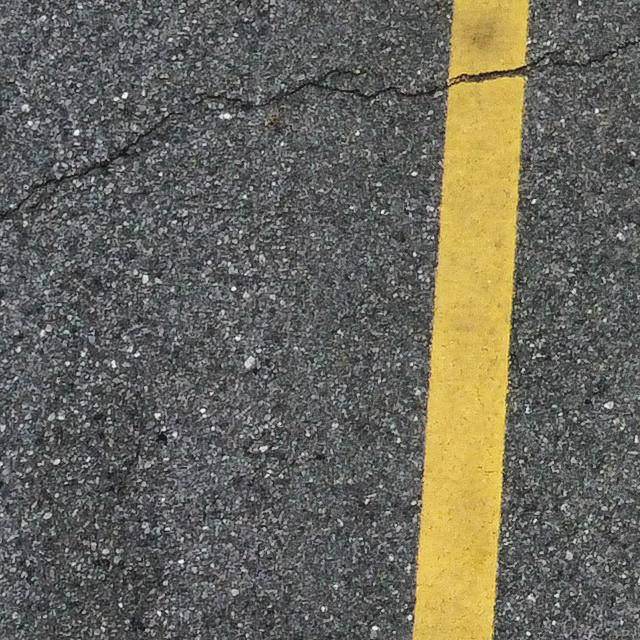TransverseCrack: (2, 38, 640, 220)
